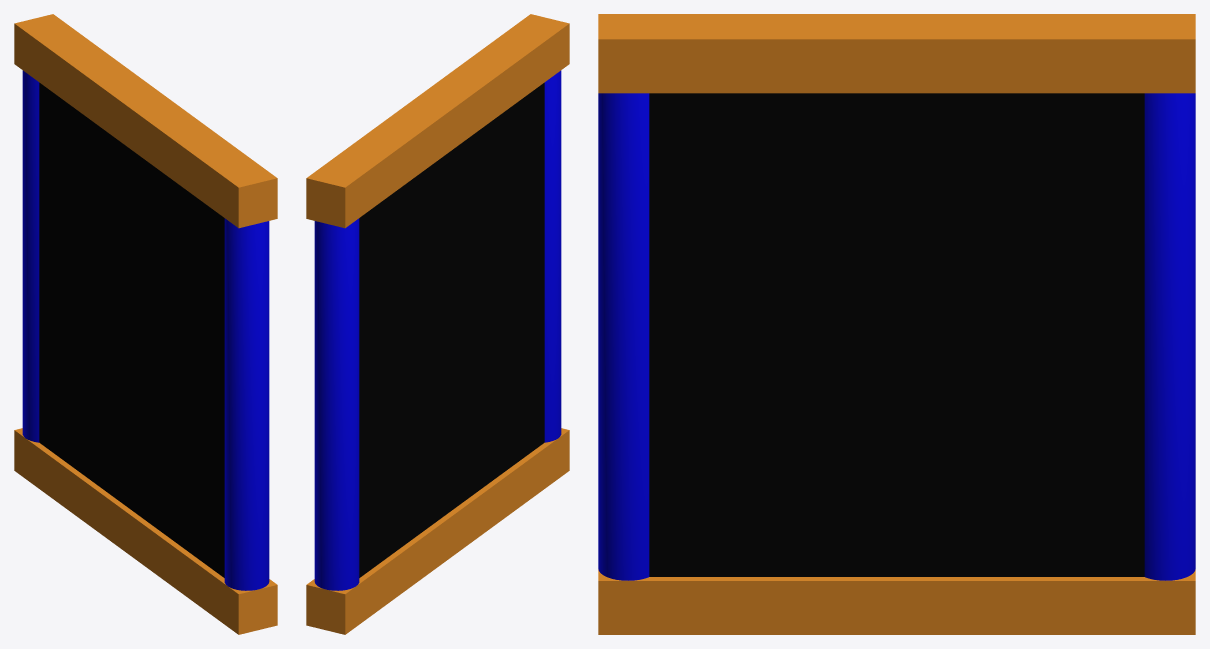
Rendered from slidingdoor.glb.
The picture shows the model from 3 angles, left to right: view 1: azimuth 30°, elevation 25°; view 2: azimuth 150°, elevation 25°; view 3: azimuth 270°, elevation 25°; orthographic projection. The views are drawn at different scales.
Visible parts, largest first — view 1: RightWing, LeftWing, UpperBolt, Col1, LowerBolt, Col2; view 2: LeftWing, RightWing, UpperBolt, Col2, LowerBolt, Col1; view 3: LeftWing, RightWing, UpperBolt, LowerBolt, Col2, Col1.
Boxes of the visible parts, x1,y1,x2,y2 form: RightWing: (39, 82, 132, 510); LeftWing: (132, 151, 224, 577); UpperBolt: (14, 14, 277, 228); Col1: (224, 218, 269, 590); LowerBolt: (14, 428, 277, 634); Col2: (22, 70, 39, 442); LeftWing: (451, 82, 544, 510); RightWing: (359, 151, 451, 577); UpperBolt: (306, 14, 569, 228); Col2: (314, 218, 359, 590); LowerBolt: (306, 428, 569, 634); Col1: (544, 70, 561, 442); LeftWing: (649, 93, 896, 576); RightWing: (897, 93, 1144, 576); UpperBolt: (598, 14, 1195, 93); LowerBolt: (598, 569, 1195, 634); Col2: (1144, 93, 1195, 580); Col1: (598, 93, 649, 580).
Size of the model in its own units: 0.2 by 2.2 by 2.
